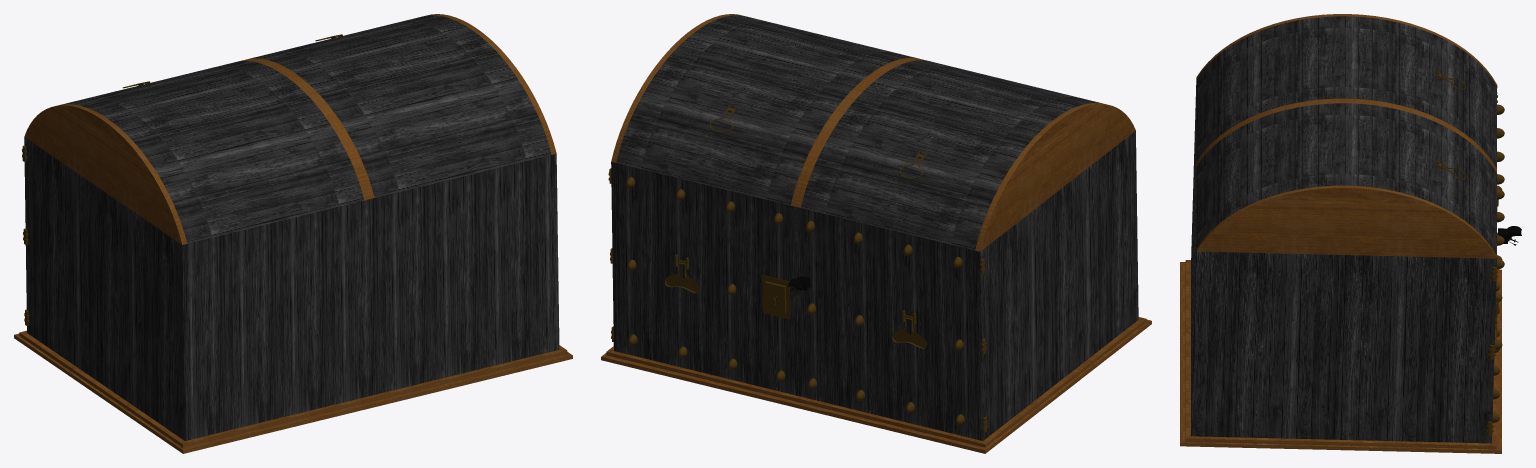
Rendered from baul.obj.
3 views of the same model, side by side, from view 1: azimuth 30°, elevation 25°; view 2: azimuth 150°, elevation 25°; view 3: azimuth 270°, elevation 25° (orthographic). The views are drawn at different scales.
Parts seen in each view (by area): view 1: treasure_box:polySurface22; view 2: treasure_box:polySurface22; view 3: treasure_box:polySurface22.
Part boxes in pixels (x1,y1,x2,y2): treasure_box:polySurface22: (14, 14, 572, 453); treasure_box:polySurface22: (601, 14, 1151, 453); treasure_box:polySurface22: (1180, 14, 1521, 453).
Size of the model in its own units: 14.25 by 9.86 by 11.37.
Materials: 11 (2 with a texture image).
